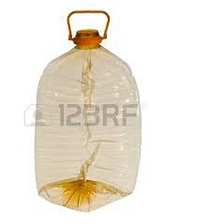bottle: (29, 8, 143, 213)
